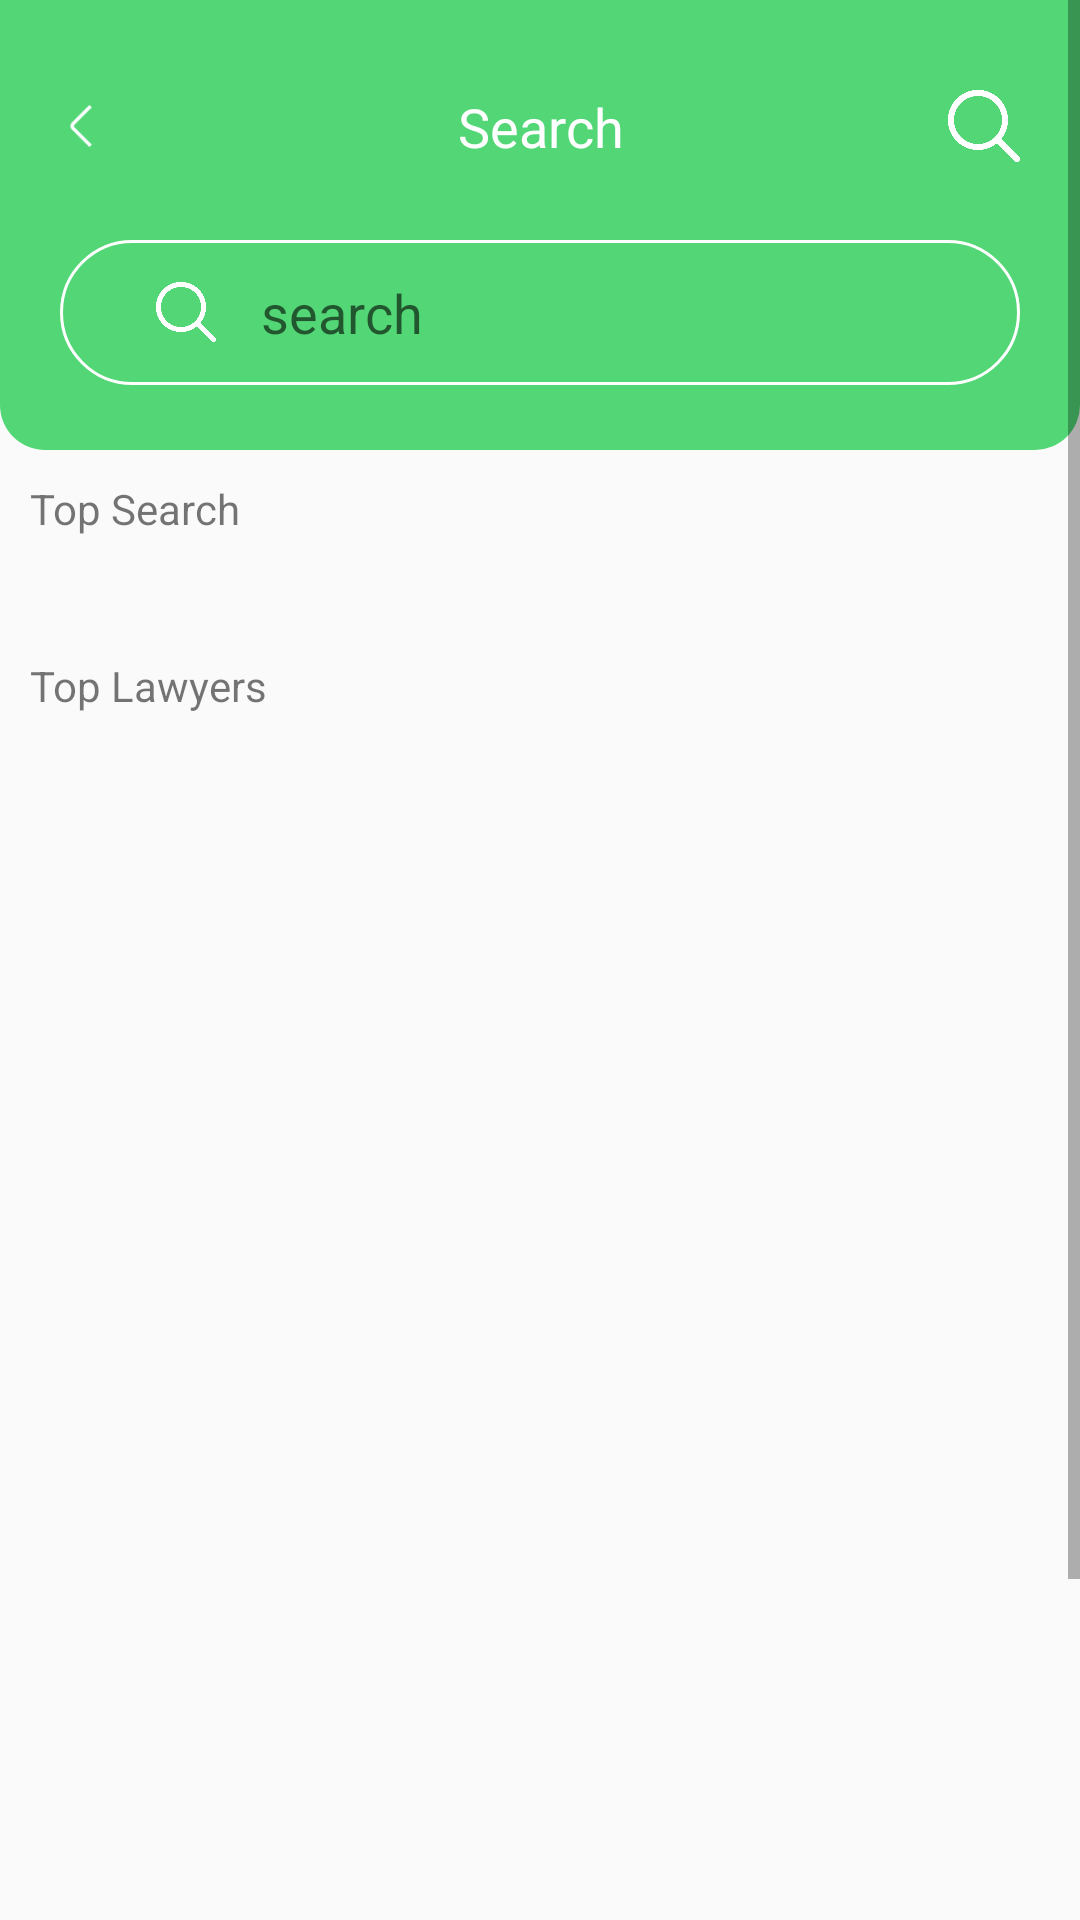

Locate icon controls on the screen. Image size 1080 × 1920, boxes as (left=x1, top=y1, right=x2, bottom=y2).
back: (left=70, top=105, right=92, bottom=147)
